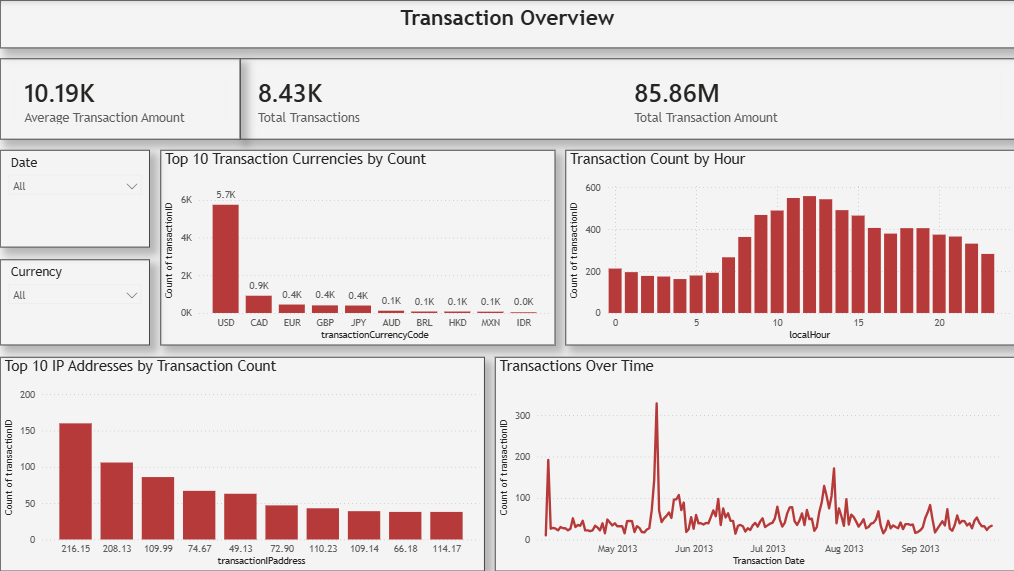

The dashboard page shown, as its layout file describes it:
{"tool":"powerbi","page":{"name":"Transaction Overview","canvas":[1280,720],"ordinal":0},"visuals":[{"type":"cardVisual","fields":{"Data":["CountNonNull(fraudanalytics fraud_transactions.transactionID)","Sum(fraudanalytics fraud_transactions.transactionAmount)"]},"box":[302.4,73.7,977,102],"z":0},{"type":"cardVisual","fields":{"Data":["Avg(fraudanalytics fraud_transactions.transactionAmount)"]},"box":[0,73.7,302.4,102],"z":1000},{"type":"clusteredColumnChart","title":"Top 10 Transaction Currencies by Count","fields":{"Category":["fraudanalytics fraud_transactions.transactionCurrencyCode"],"Y":["CountNonNull(fraudanalytics fraud_transactions.transactionID)"]},"box":[202.2,189,497,245.7],"z":2000},{"type":"textbox","box":[0,0,1279.4,60.5],"z":3000},{"type":"clusteredColumnChart","title":"Transaction Count by Hour","fields":{"Category":["fraudanalytics fraud_transactions.localHour"],"Y":["CountNonNull(fraudanalytics fraud_transactions.transactionID)"]},"box":[712.4,189,566.9,245.7],"z":4000},{"type":"clusteredColumnChart","title":"Top 10 IP Addresses by Transaction Count","fields":{"Category":["fraudanalytics fraud_transactions.transactionIPaddress"],"Y":["CountNonNull(fraudanalytics fraud_transactions.transactionID)"]},"box":[0,449.8,610.4,270.2],"z":5000},{"type":"lineChart","title":"Transactions Over Time","fields":{"Category":["fraudanalytics fraud_transactions.TransactionDate_Clean.Variation.Date Hierarchy.Year","fraudanalytics fraud_transactions.TransactionDate_Clean.Variation.Date Hierarchy.Quarter","fraudanalytics fraud_transactions.TransactionDate_Clean.Variation.Date Hierarchy.Month","fraudanalytics fraud_transactions.TransactionDate_Clean.Variation.Date Hierarchy.Day"],"Y":["CountNonNull(fraudanalytics fraud_transactions.transactionID)"]},"box":[623.6,449.8,655.8,270.2],"z":6000},{"type":"slicer","fields":{"Values":["fraudanalytics fraud_transactions.transactionCurrencyCode"]},"box":[0,326.9,189,107.7],"z":7000},{"type":"slicer","fields":{"Values":["fraudanalytics fraud_transactions.TransactionDate_Clean"]},"box":[0,189,189,122.8],"z":8000}]}

Visuals, with their boxes in screenshot pixels (x1, y1, x2, y2), scaled from the page's 1280x720 canvas onto the 1014x571 screenshot:
cardVisual - CountNonNull(fraudanalytics fraud_transactions.transactionID) x Sum(fraudanalytics fraud_transactions.transactionAmount): [240,58,1013,139]
cardVisual - Avg(fraudanalytics fraud_transactions.transactionAmount): [0,58,240,139]
"Top 10 Transaction Currencies by Count" clusteredColumnChart: [160,150,554,345]
textbox: [0,0,1013,48]
"Transaction Count by Hour" clusteredColumnChart: [564,150,1013,345]
"Top 10 IP Addresses by Transaction Count" clusteredColumnChart: [0,357,484,570]
"Transactions Over Time" lineChart: [494,357,1013,570]
slicer - fraudanalytics fraud_transactions.transactionCurrencyCode: [0,259,150,345]
slicer - fraudanalytics fraud_transactions.TransactionDate_Clean: [0,150,150,247]
